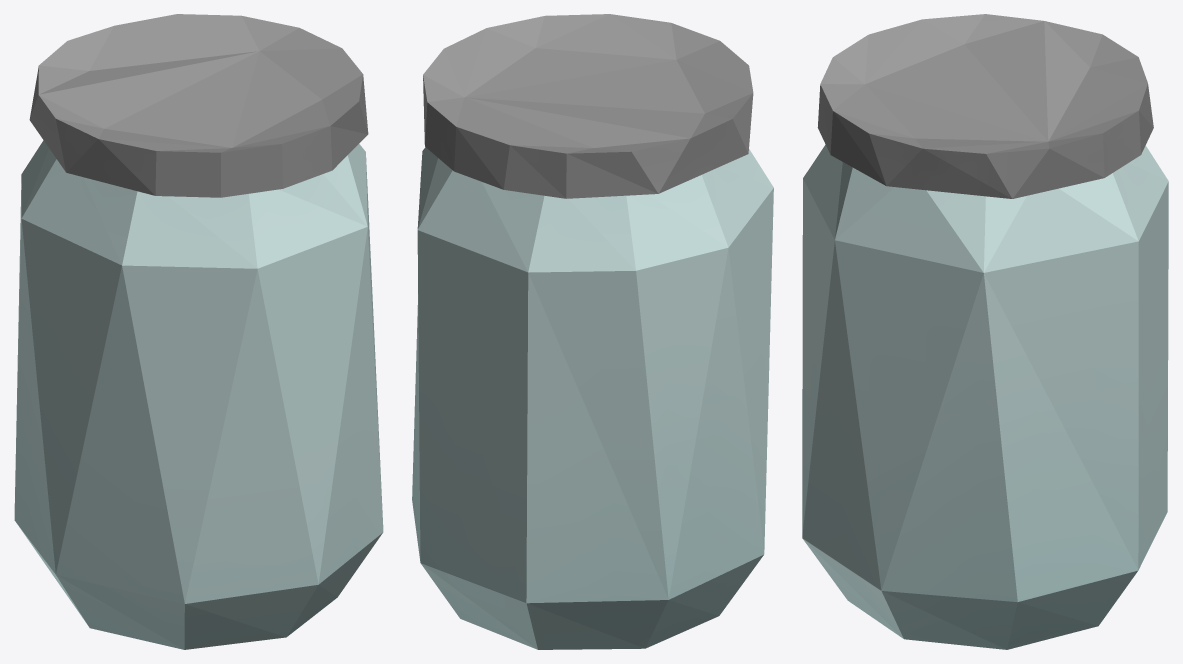
File: bottle2_1b.dae
3 views of the same model, side by side, from view 1: azimuth 30°, elevation 25°; view 2: azimuth 150°, elevation 25°; view 3: azimuth 270°, elevation 25° (orthographic).
Visible parts, largest first — view 1: node; view 2: node; view 3: node.
Part boxes in pixels (x1,y1,x2,y2): node: [14, 14, 383, 649]; node: [412, 14, 773, 649]; node: [802, 14, 1168, 649].
Size of the model in its own units: 0.0694 by 0.1037 by 0.0679.
1 material, 1 textured.
